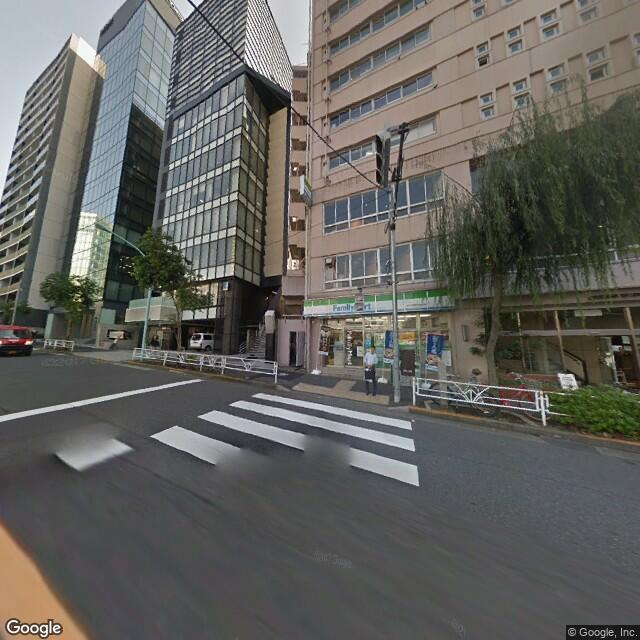family_mart: (302, 284, 458, 322)
